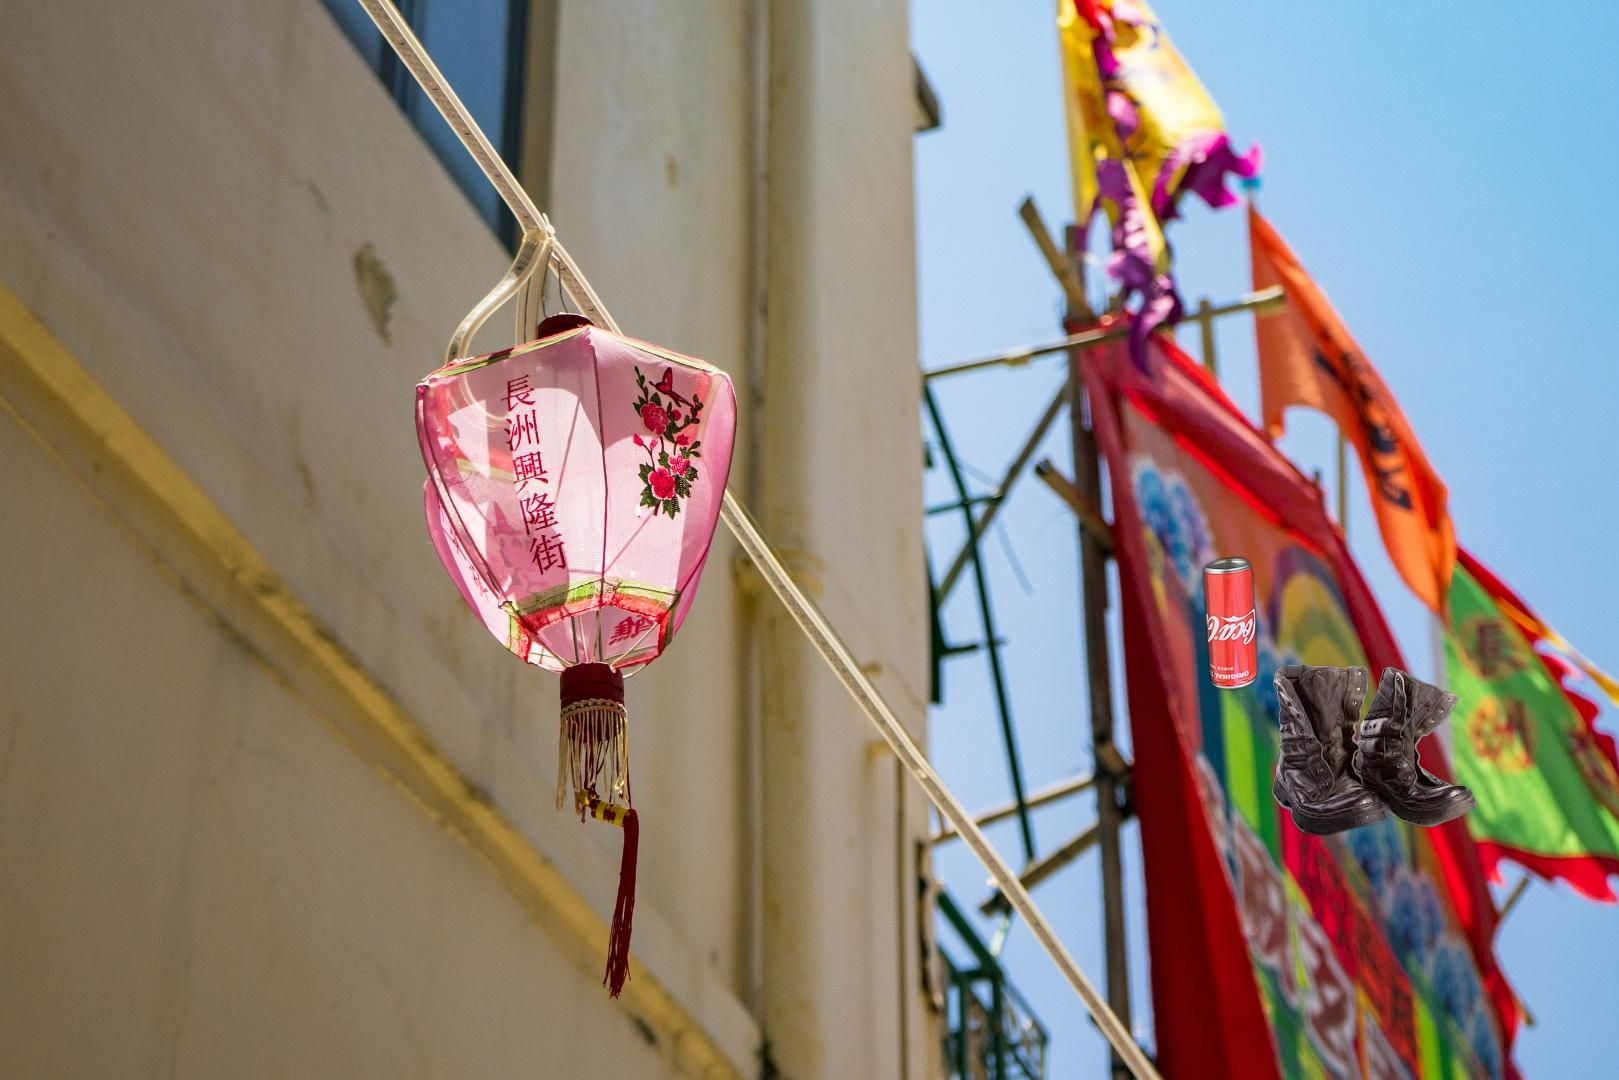metal-cans: (1198, 551, 1262, 695)
shoes: (1268, 658, 1482, 838)
